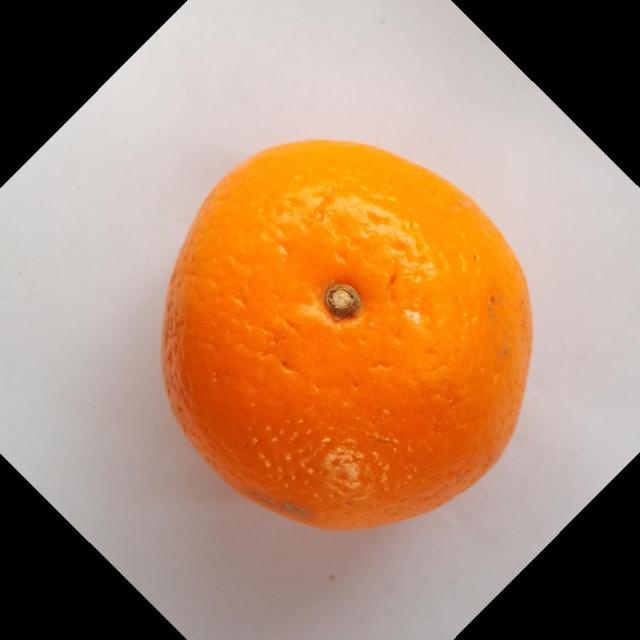agrume: (159, 137, 533, 531)
